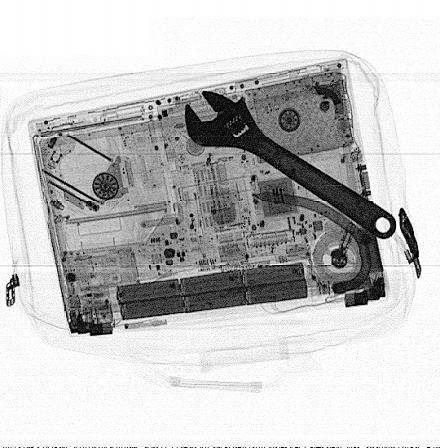Wrench: (185, 89, 398, 242)
